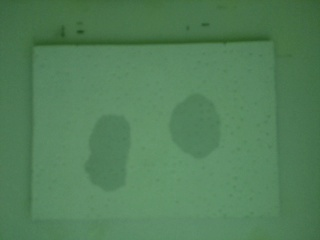Water_detected: (97, 128, 135, 187), (179, 101, 219, 150)
